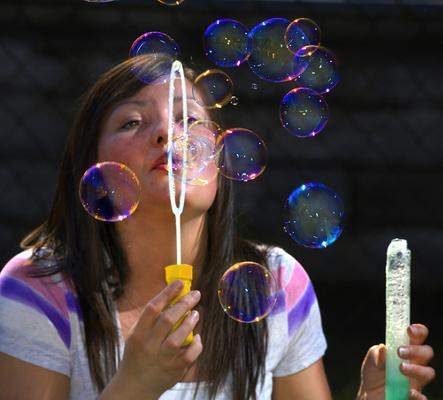person: (4, 51, 437, 400)
